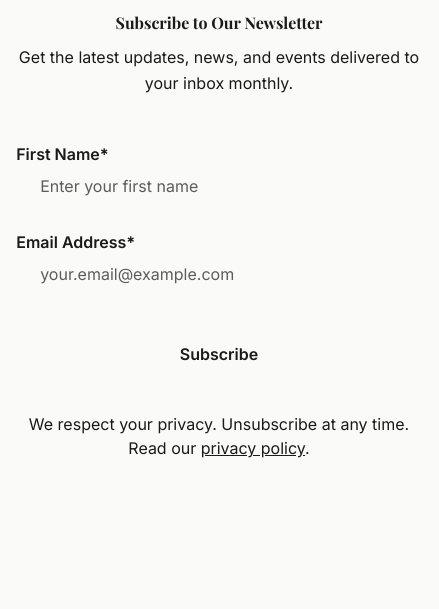
Test: NewsletterSignup › Validation › shows error when first name contains invalid characters
The width and height of the screenshot is (439, 609).
In the field labelled "First Name *": (219,186) top-left (16, 164), bottom-right (422, 208), type "John123"
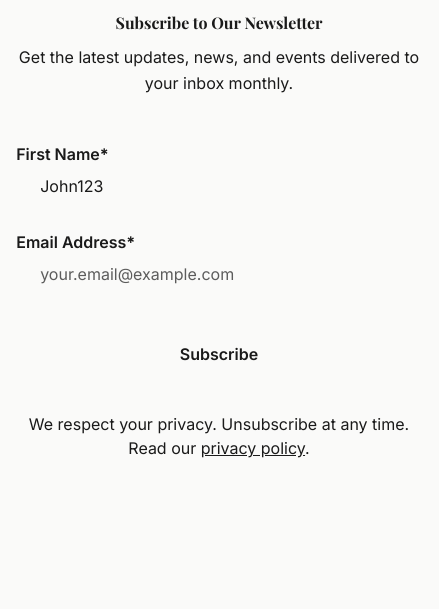
Click the button "Subscribe": (219,354) top-left (16, 320), bottom-right (422, 388)
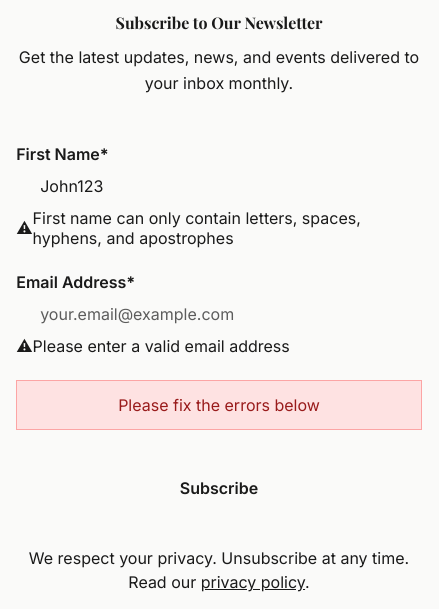
Result: the text "First name can only contain letters, spaces, hyphens, and apostrophes" is shown at top-left (33, 208), bottom-right (361, 248)
